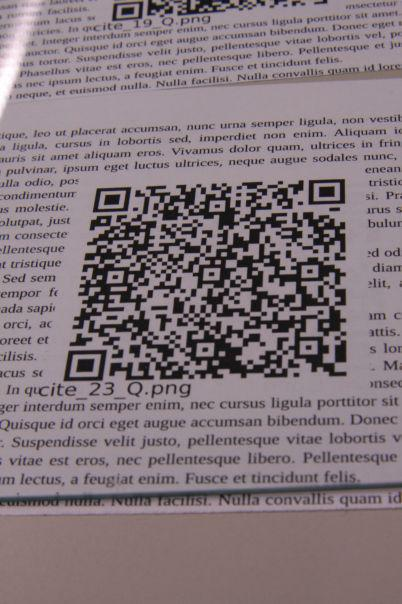Finder pattern: (59, 346, 112, 383), (307, 175, 353, 211), (89, 184, 135, 217)
